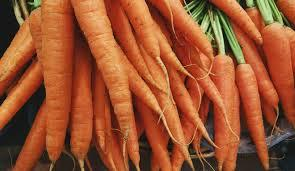Organic: (0, 3, 295, 171)
